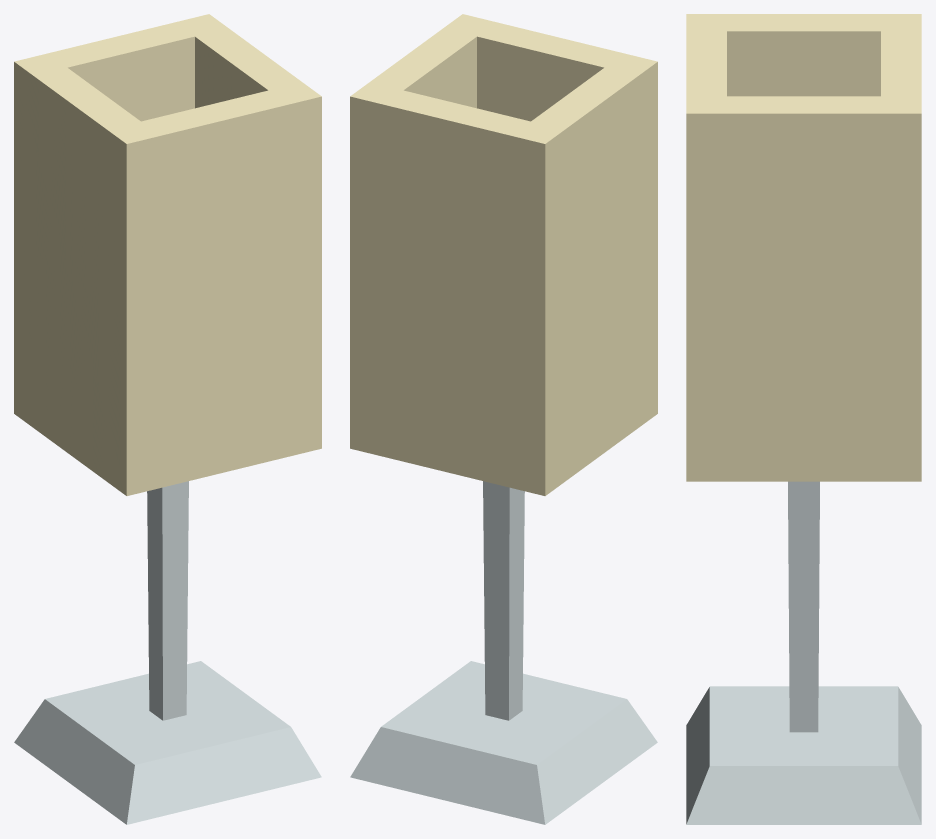
Rendered from office-desk-lamp.glb.
3 views of the same model, side by side, from view 1: azimuth 30°, elevation 25°; view 2: azimuth 150°, elevation 25°; view 3: azimuth 270°, elevation 25° (orthographic). The views are drawn at different scales.
Parts seen in each view (by area): view 1: lampSquareTable(Clone); view 2: lampSquareTable(Clone); view 3: lampSquareTable(Clone).
Part boxes in pixels (bbox=[...]): lampSquareTable(Clone): bbox=[14, 14, 321, 824]; lampSquareTable(Clone): bbox=[350, 14, 657, 824]; lampSquareTable(Clone): bbox=[686, 14, 921, 824].
Size of the model in its own units: 0.15 by 0.5 by 0.15.
